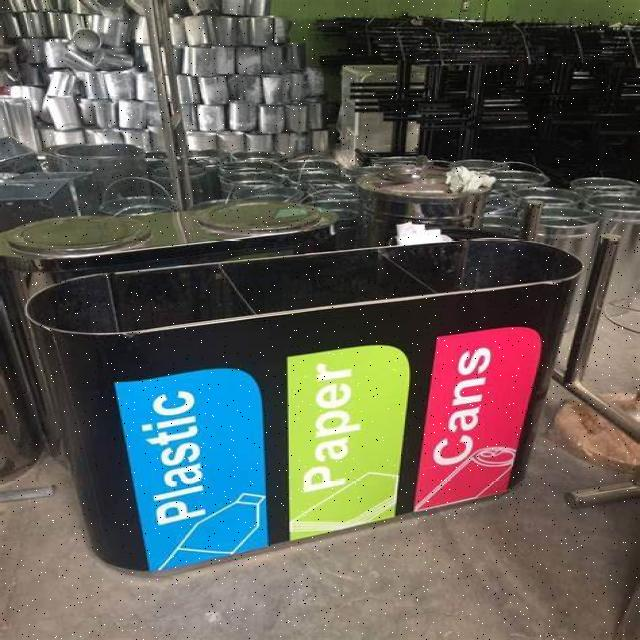garbage container: (22, 228, 611, 578)
